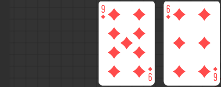9D: (147, 66, 154, 82)
